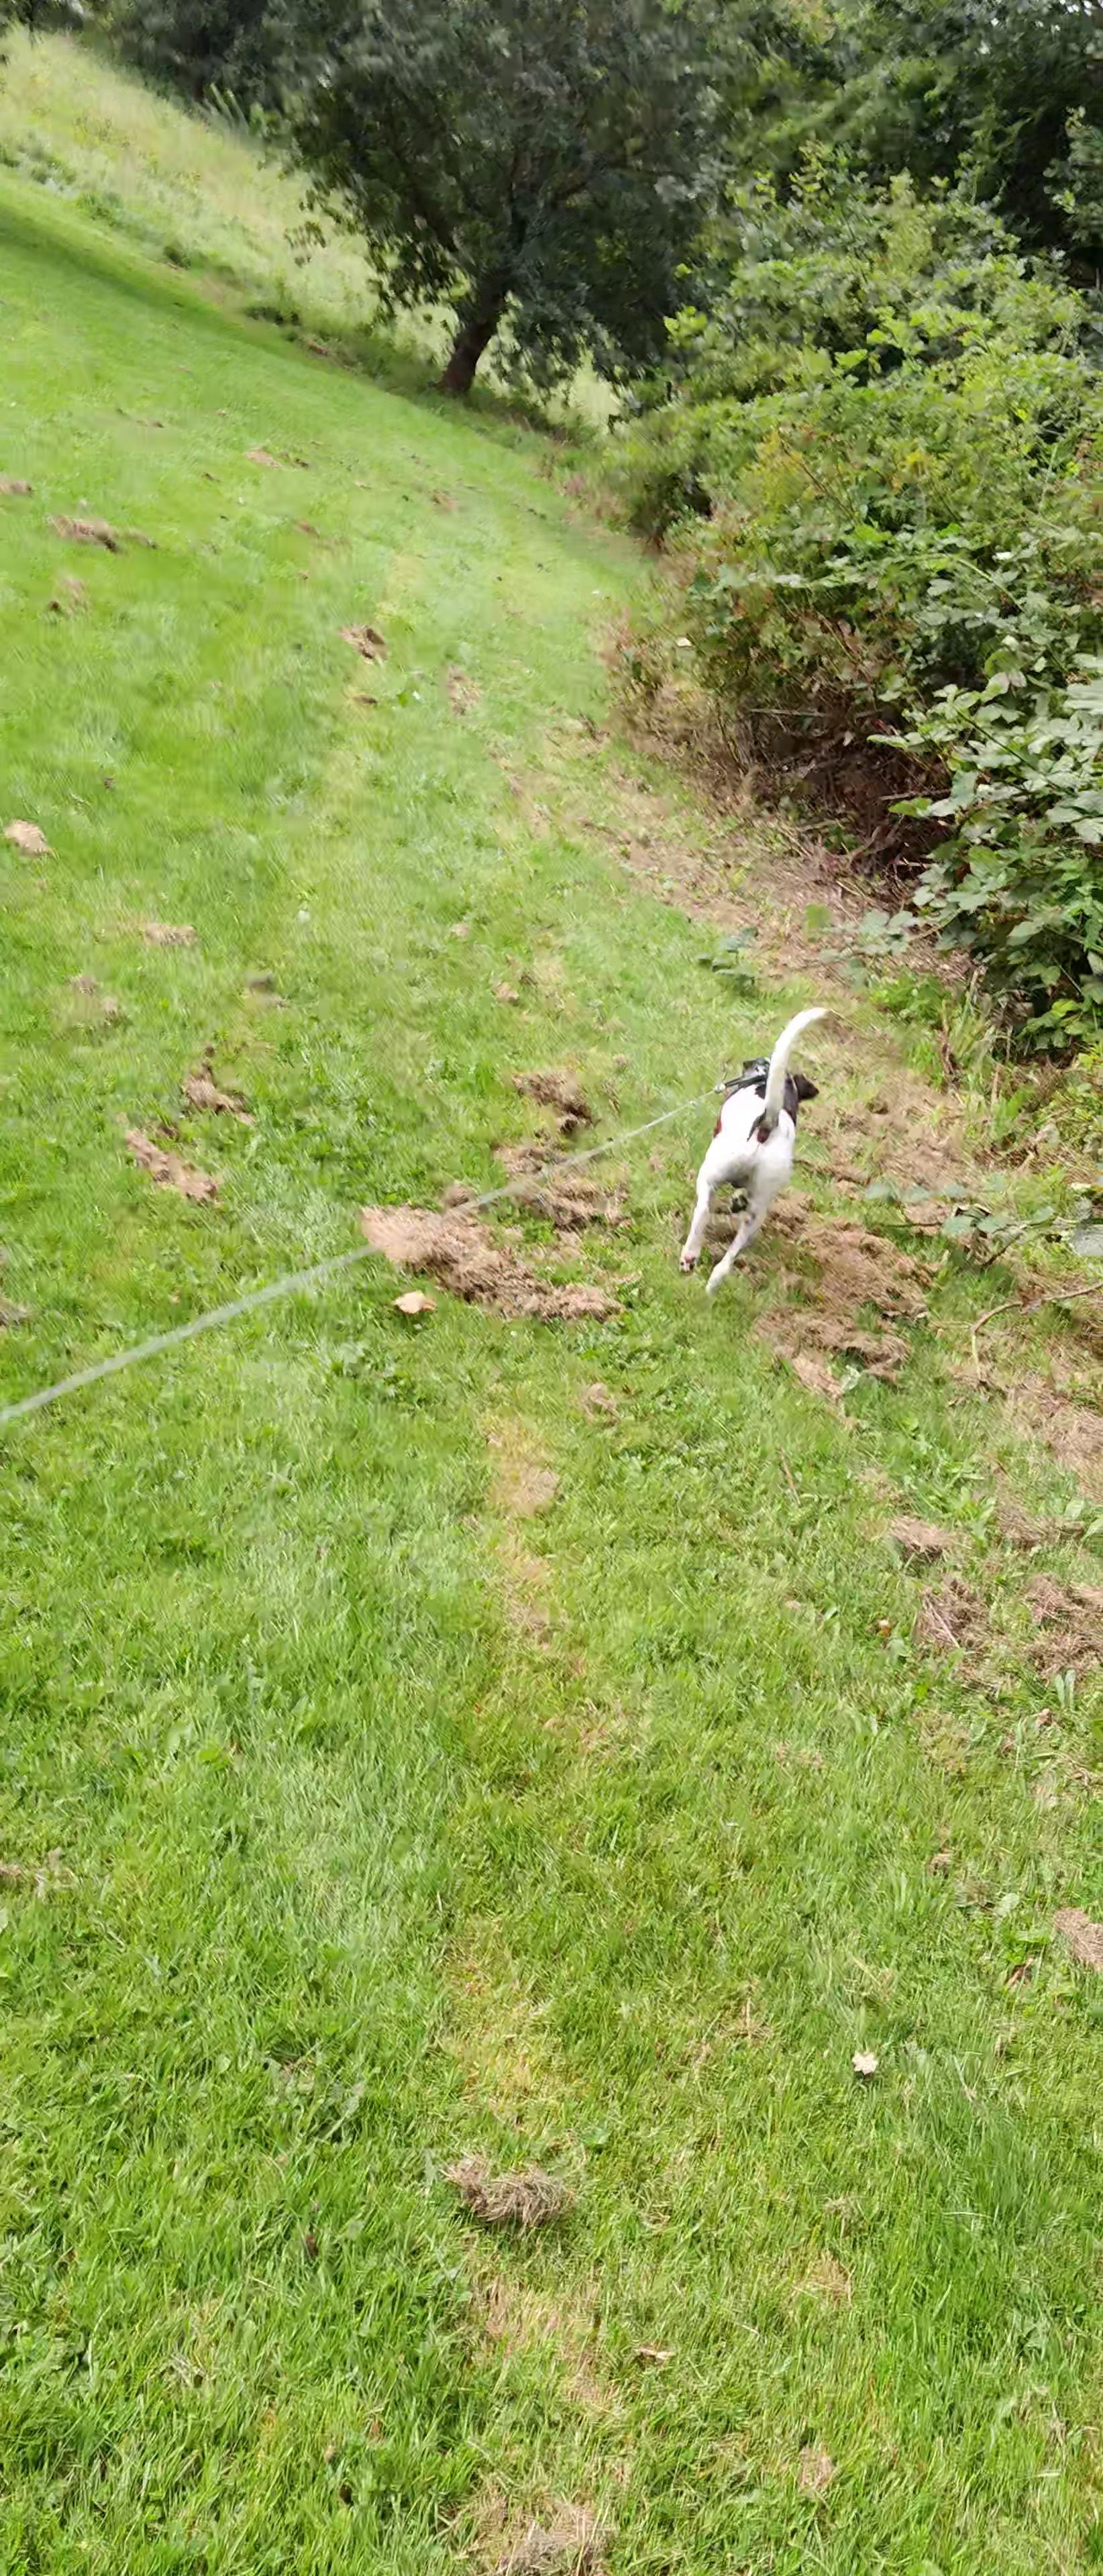Dog: (638, 971, 868, 1316)
